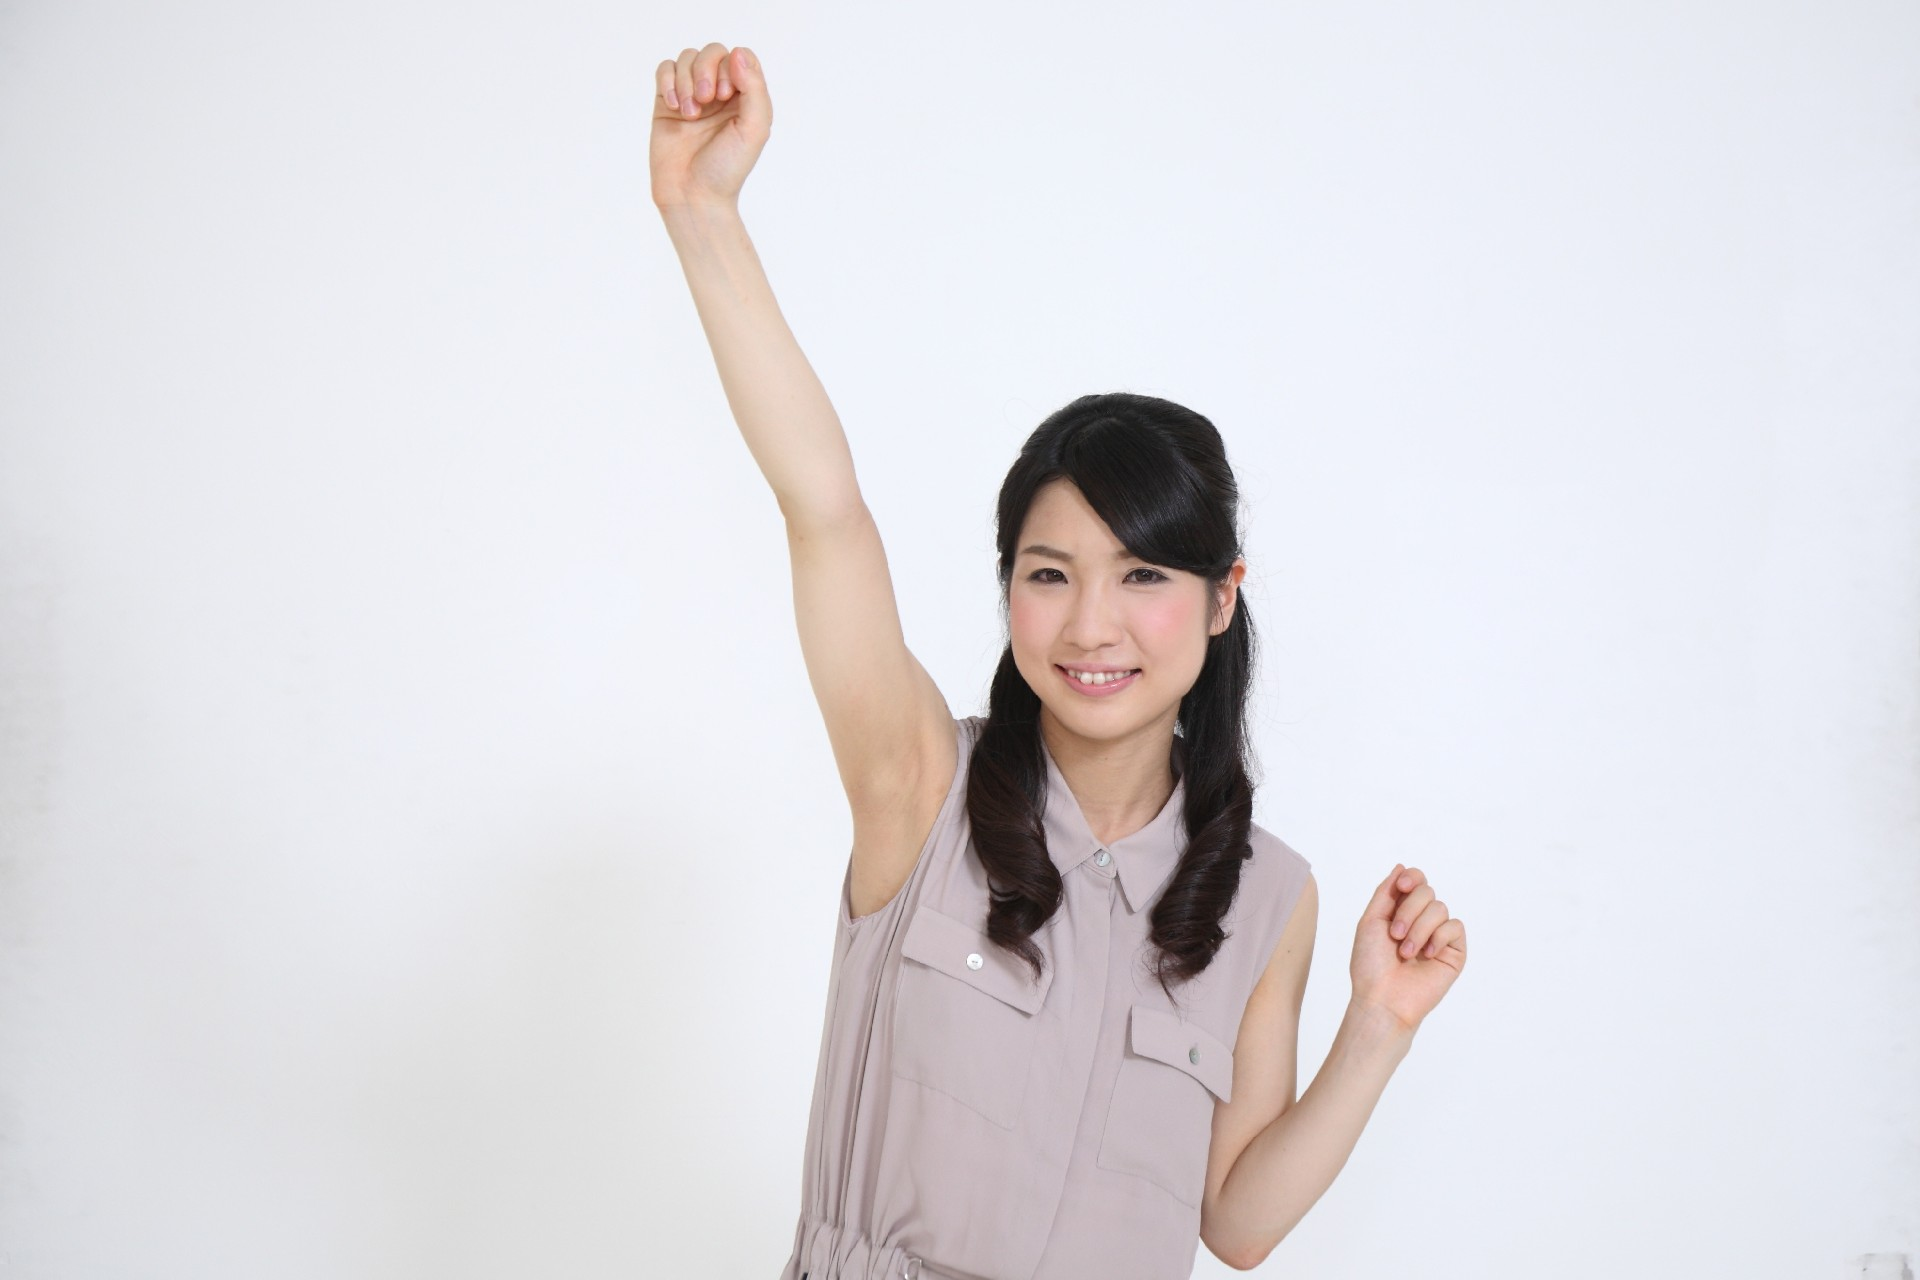face: (1008, 480, 1244, 743)
hand: (1344, 852, 1466, 1039), (644, 42, 780, 207)
